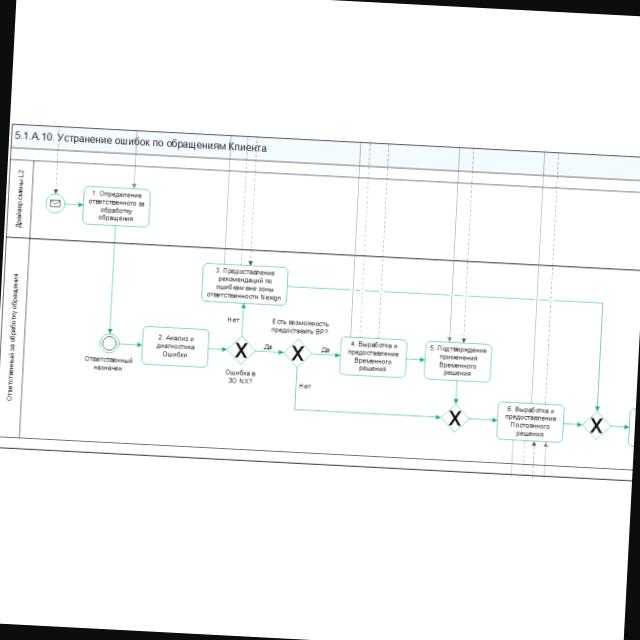arrow: (291, 366, 442, 422), (448, 147, 460, 341), (463, 148, 475, 342), (249, 151, 258, 265), (108, 227, 116, 333), (54, 126, 60, 194), (132, 130, 138, 188), (531, 441, 536, 477), (543, 442, 548, 478), (241, 304, 245, 336), (255, 350, 283, 354), (469, 418, 497, 422), (120, 342, 141, 347), (313, 353, 339, 357), (454, 381, 458, 403), (609, 425, 629, 429), (407, 357, 424, 361), (65, 202, 82, 206), (565, 423, 581, 427), (208, 348, 226, 351)
circle: (46, 194, 65, 213), (100, 334, 119, 353)
diamond: (582, 411, 612, 442), (282, 338, 312, 368), (227, 336, 256, 366), (440, 402, 469, 432)
rectangle: (201, 263, 288, 305), (424, 341, 492, 382), (142, 326, 209, 367), (496, 402, 564, 442), (339, 337, 407, 377), (83, 187, 150, 227)
text_region: (56, 131, 271, 155), (3, 268, 23, 405), (271, 316, 329, 337), (12, 168, 30, 230), (78, 355, 138, 373), (222, 366, 260, 387), (298, 382, 318, 392), (226, 316, 242, 326), (321, 344, 332, 354), (262, 342, 274, 351)
